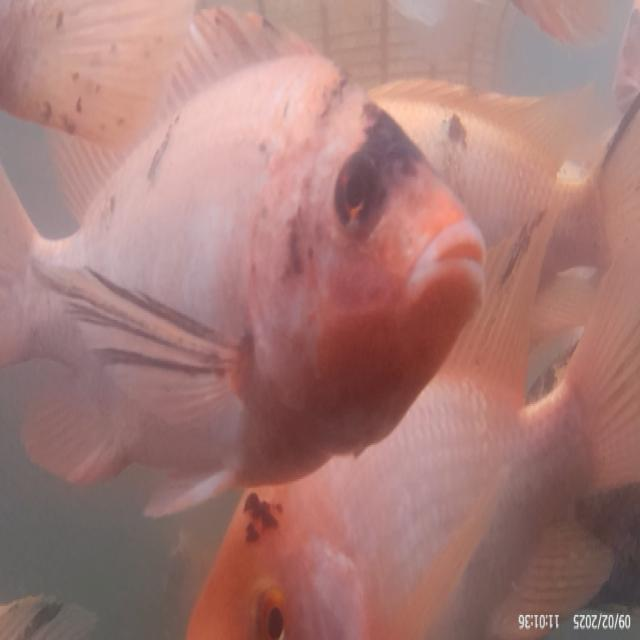ikan: (77, 70, 490, 434)
